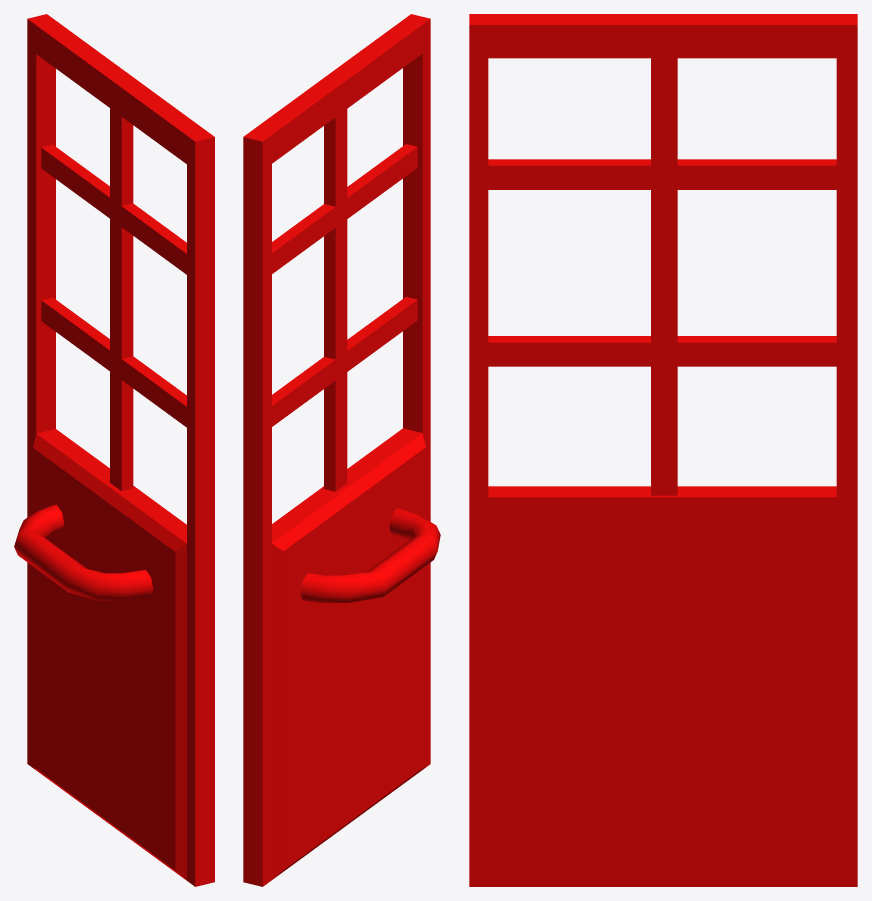
File: Door.fbx
The picture shows the model from 3 angles, left to right: view 1: azimuth 30°, elevation 25°; view 2: azimuth 150°, elevation 25°; view 3: azimuth 270°, elevation 25°; orthographic projection. The views are drawn at different scales.
Parts seen in each view (by area): view 1: Library_Door; view 2: Library_Door; view 3: Library_Door.
Boxes of the visible parts, bbox=[...] form: Library_Door: bbox=[14, 14, 214, 886]; Library_Door: bbox=[243, 14, 440, 886]; Library_Door: bbox=[469, 14, 857, 886].
Bounding box in the file's own units: 25.9 × 209 × 85.41.
